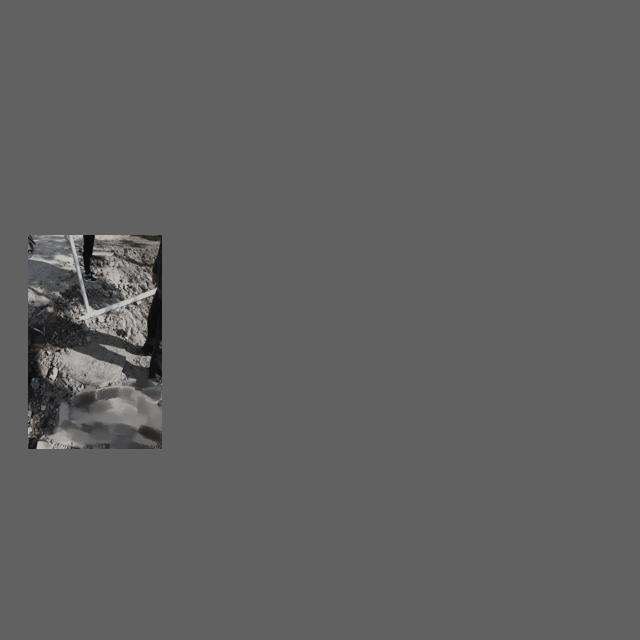circle: (51, 328, 135, 396)
